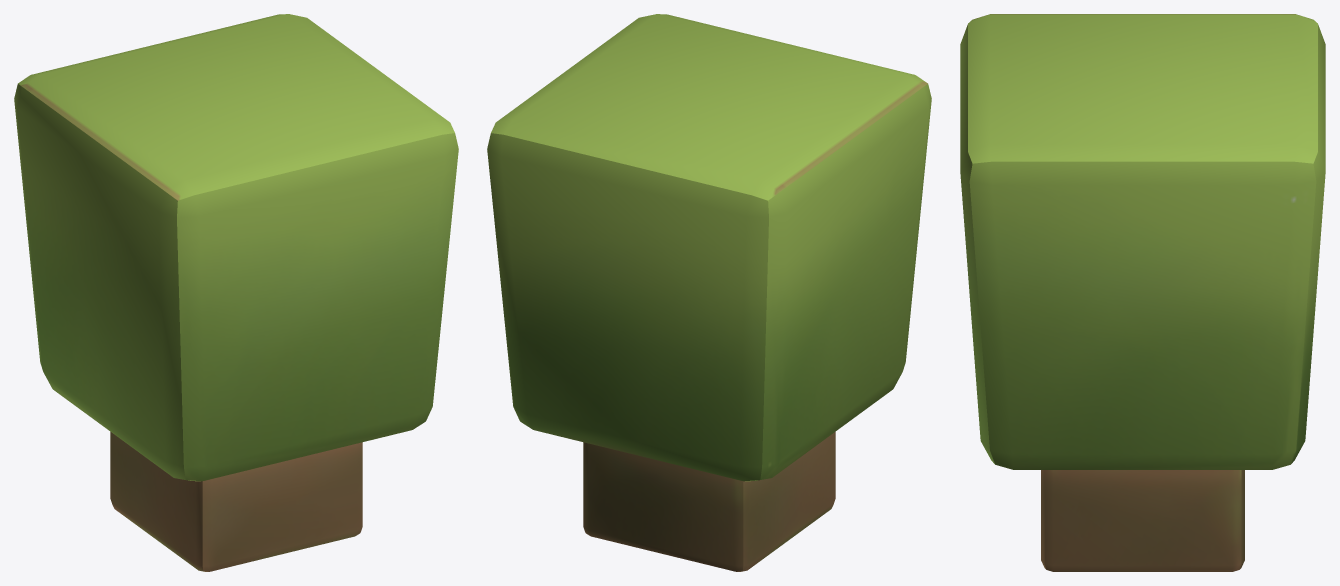
Rendered from tree 5.fbx.
3 views of the same model, side by side, from view 1: azimuth 30°, elevation 25°; view 2: azimuth 150°, elevation 25°; view 3: azimuth 270°, elevation 25° (orthographic). The views are drawn at different scales.
Visible parts, largest first — view 1: Cube.002; view 2: Cube.002; view 3: Cube.002.
Part boxes in pixels (bbox=[...]): Cube.002: bbox=[14, 14, 458, 571]; Cube.002: bbox=[487, 14, 931, 571]; Cube.002: bbox=[960, 14, 1325, 571].
Bounding box in the file's own units: 141 × 194 × 141.
